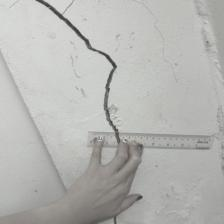High: (29, 1, 133, 130)
